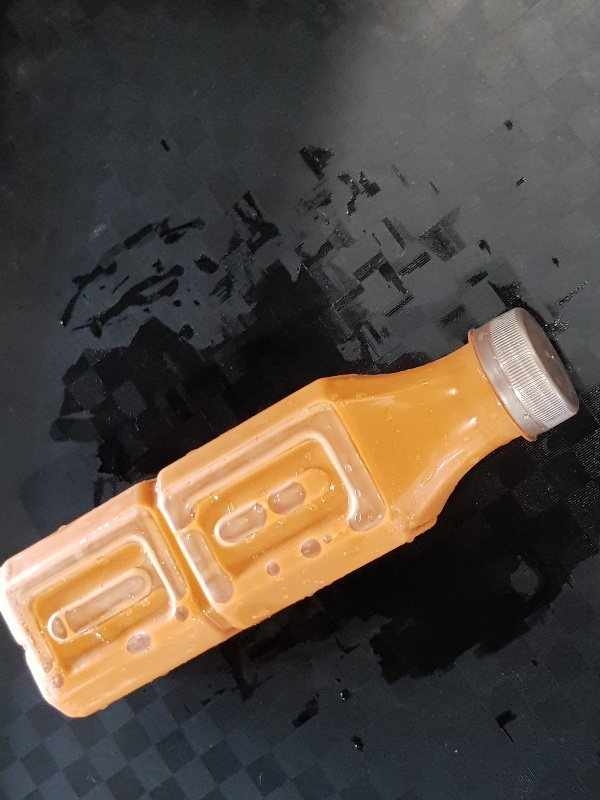Thai Milk Tea: (1, 305, 583, 719)
